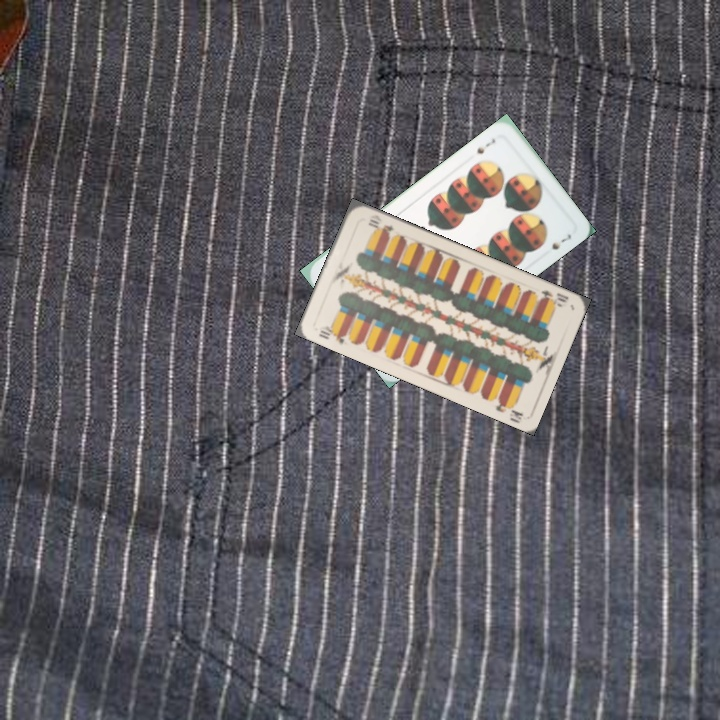E10: (536, 286, 571, 310), (314, 322, 349, 346)
S7: (473, 134, 498, 157)
